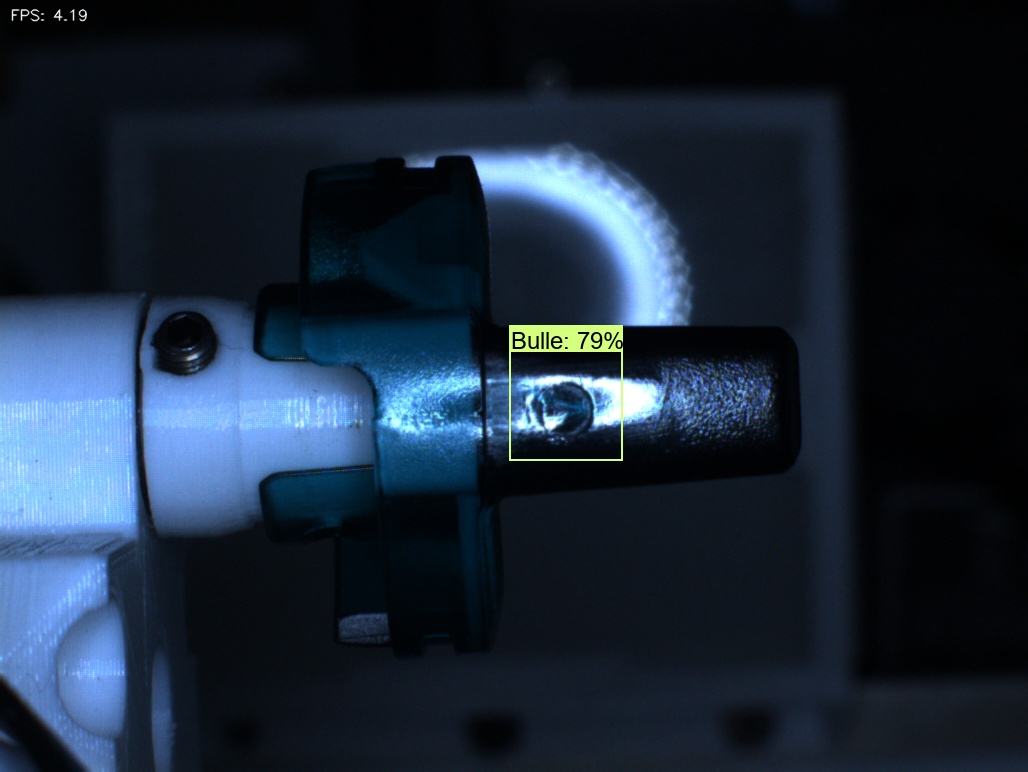DentOk: (337, 204, 399, 280)
